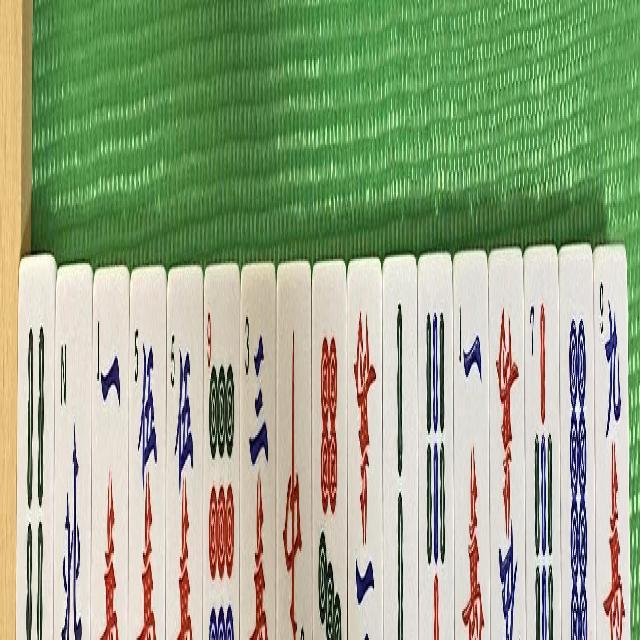hdr: (280, 295, 306, 640)
hwn: (57, 285, 87, 640)
sb2: (386, 274, 414, 640)
sb4: (20, 310, 48, 640)
sb7: (527, 274, 555, 640), (422, 270, 448, 640)
sc1: (456, 259, 484, 640), (94, 285, 124, 640)
sc3: (242, 274, 270, 640)
sc5: (168, 270, 200, 640), (492, 290, 522, 640), (130, 295, 160, 640)
sc9: (598, 270, 627, 640)
sd7: (315, 285, 345, 640)
sd8: (566, 270, 592, 640)
sd9: (204, 295, 236, 640)
